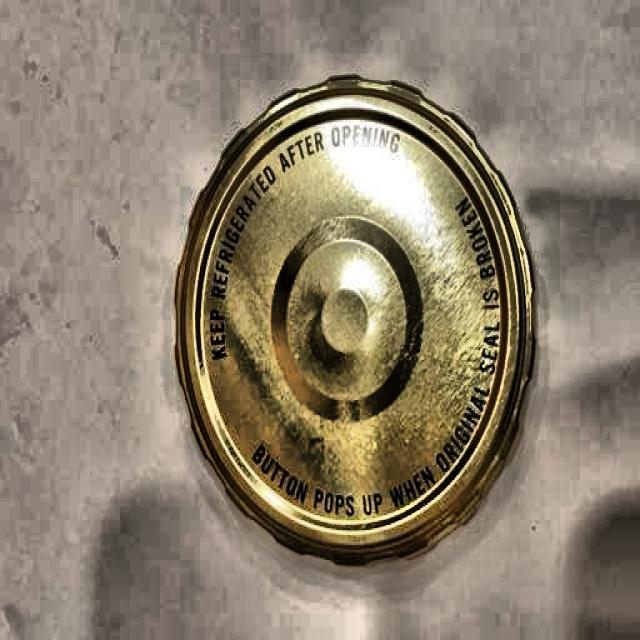metal: (169, 76, 539, 565)
